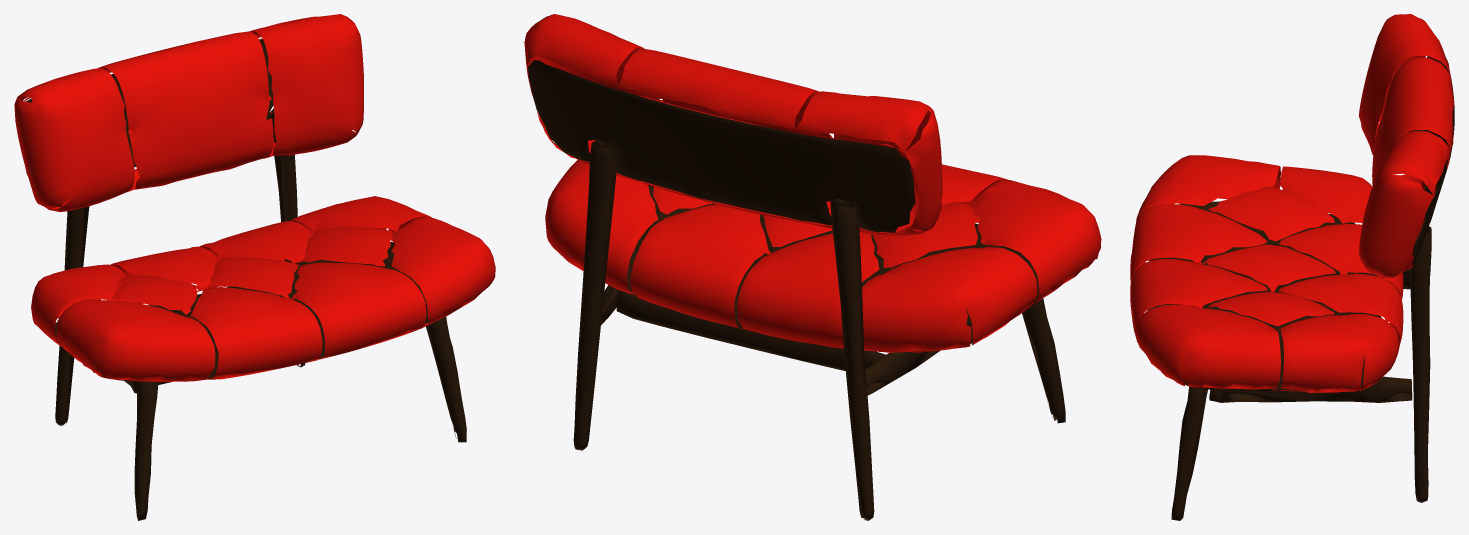
File: SheenChair_LOD1.obj
3 renders of one model, left to right at view 1: azimuth 30°, elevation 25°; view 2: azimuth 150°, elevation 25°; view 3: azimuth 270°, elevation 25°, orthographic. The views are drawn at different scales.
Visible parts, largest first — view 1: SheenChair_m0, SheenChair_m1; view 2: SheenChair_m0, SheenChair_m1; view 3: SheenChair_m0, SheenChair_m1.
Part boxes in pixels (x1=…): SheenChair_m0: x1=14, y1=14, x2=495, y2=382; SheenChair_m1: x1=26, y1=39, x2=466, y2=520; SheenChair_m0: x1=524, y1=14, x2=1101, y2=352; SheenChair_m1: x1=528, y1=60, x2=1065, y2=519; SheenChair_m0: x1=1130, y1=14, x2=1454, y2=392; SheenChair_m1: x1=1147, y1=53, x2=1454, y2=520.
Size of the model in its own units: 0.8252 by 0.6839 by 0.5683.
